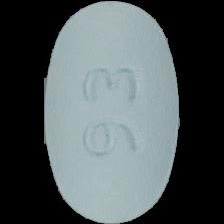0093-1118: (0, 0, 224, 224)
